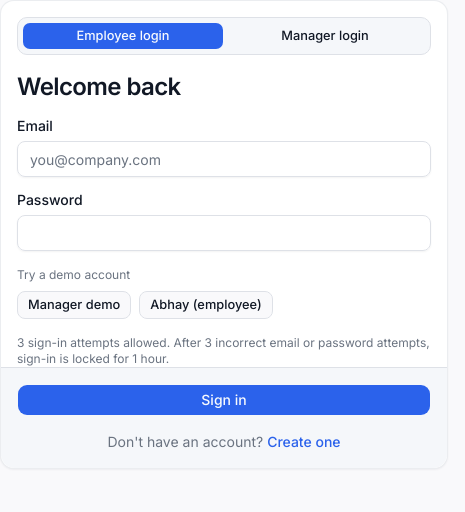
it: <LoginForm /> › shows the number of sign-in attempts remaining after a bad password
This screenshot has width=465, height=512.
Type "person@example.com" into the field labelled "Email" at (224, 159), box [17, 141, 431, 177]
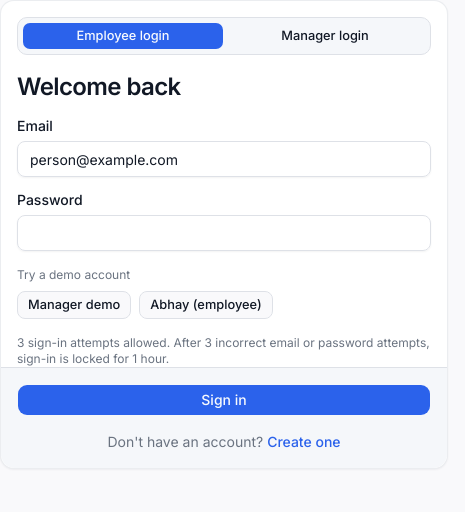
Type "wrong-password" into the password field labelled "Password" at (224, 233), box [17, 215, 431, 251]
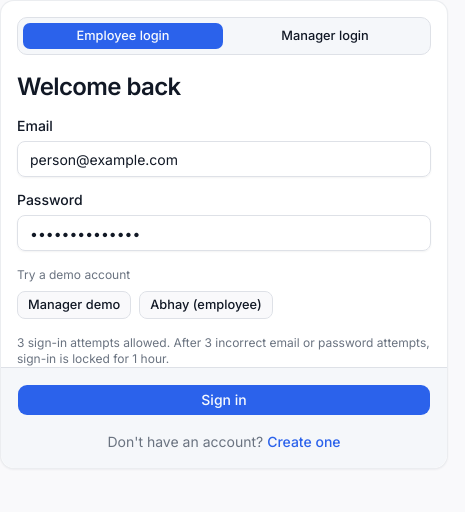
Click the button "Sign in" at (224, 400), box [17, 384, 431, 416]
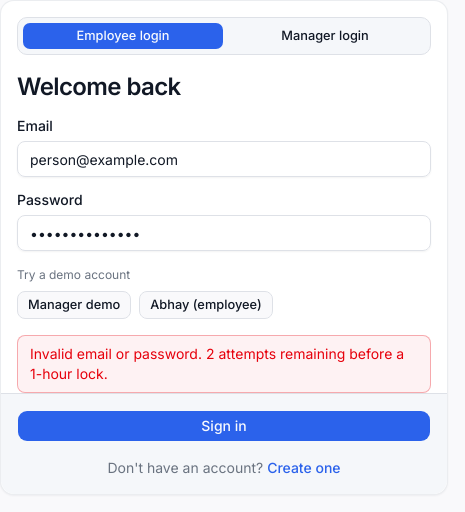
Result: the message shows "2 attempts remaining" at [30, 345, 404, 382]
